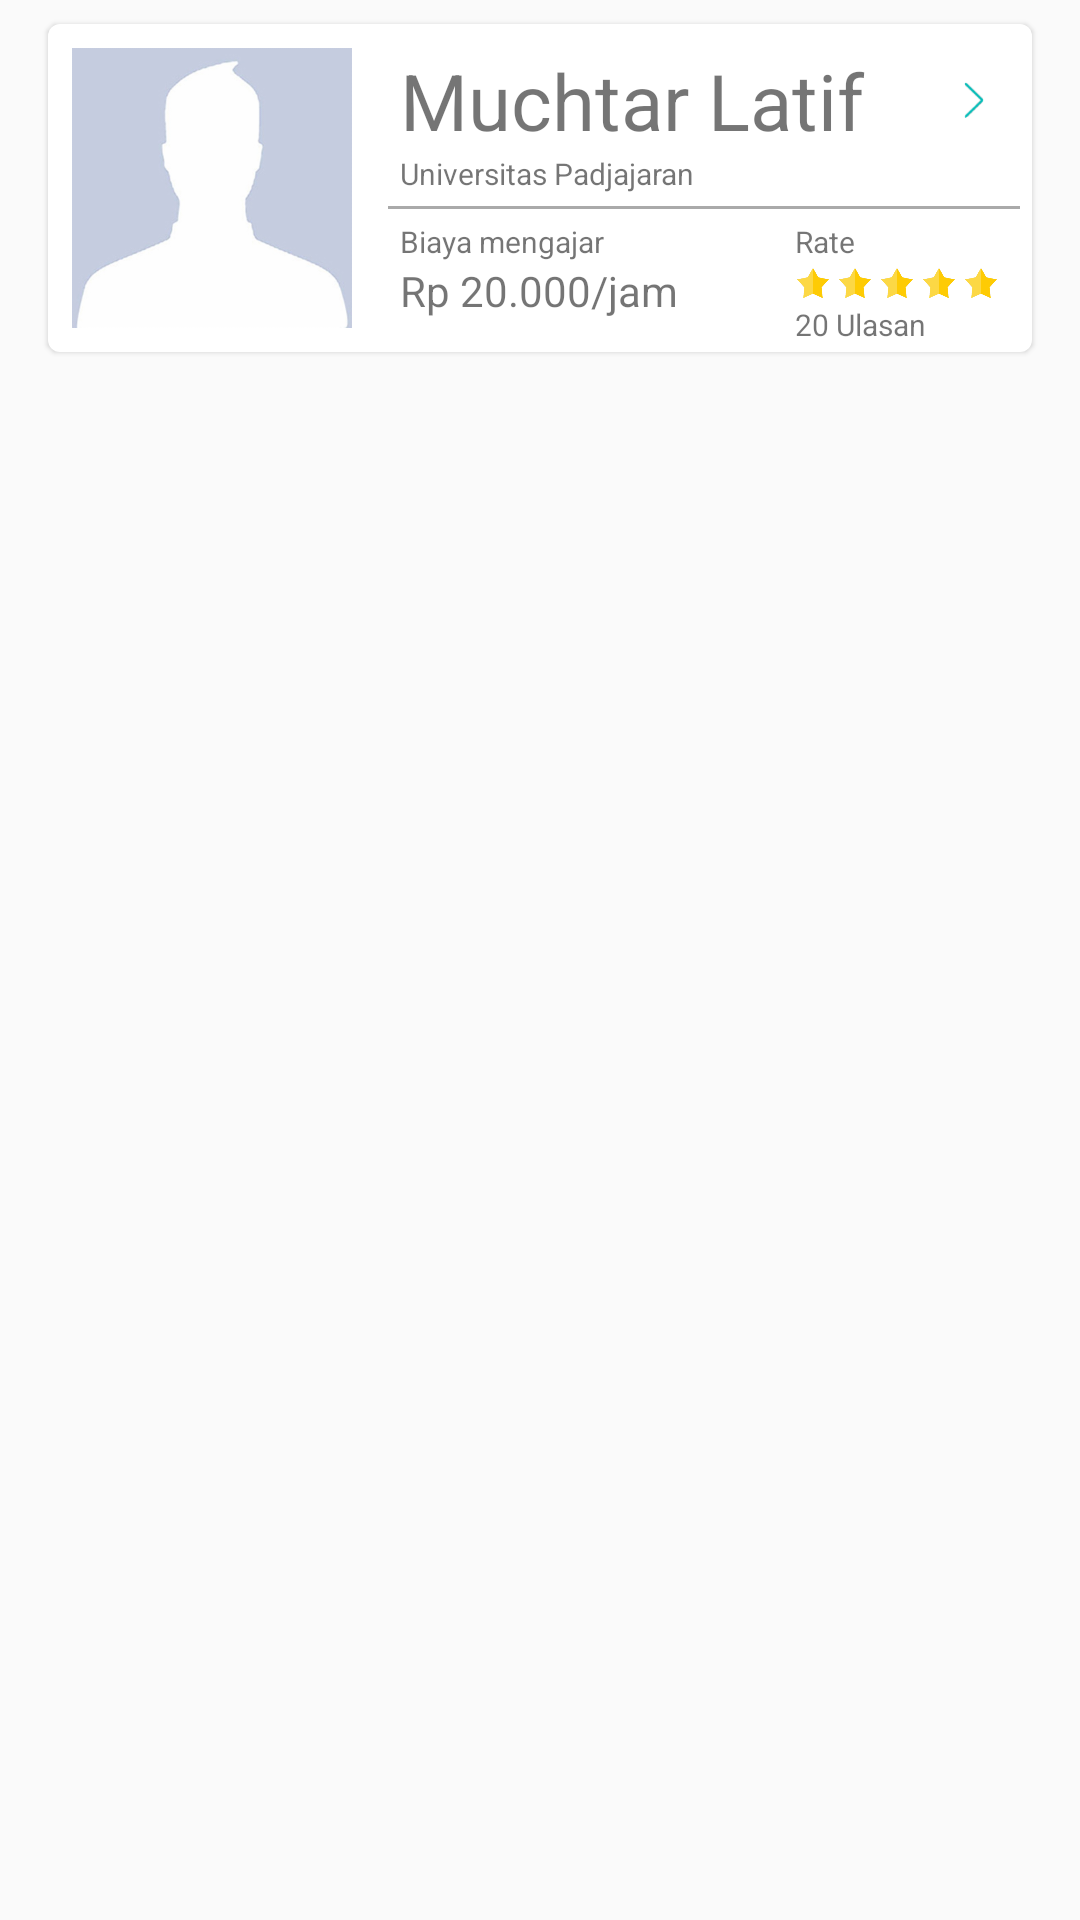

Locate icon controls on the screen. Image size 1080 × 1920, boxes as detection(x1, y1, x2, y2).
star: detection(797, 268, 829, 298), detection(839, 268, 871, 298), detection(881, 268, 913, 298), detection(923, 268, 955, 298), detection(965, 268, 997, 298)
